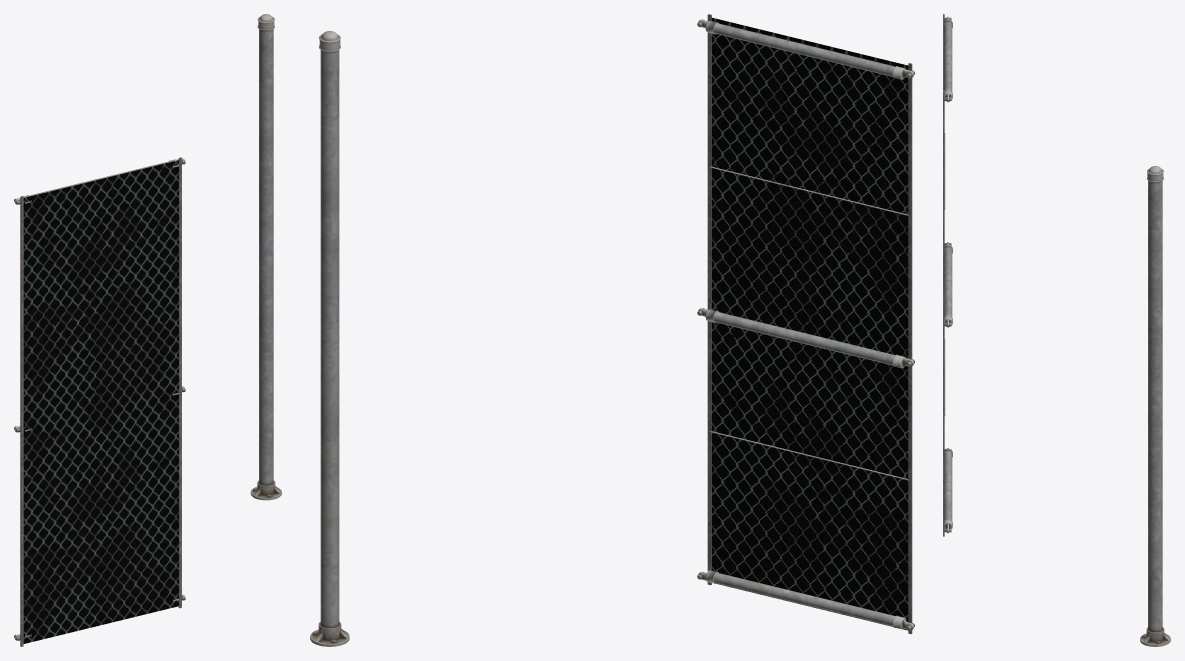
File: modular_chainlink_fence.glb
3 renders of one model, left to right at view 1: azimuth 30°, elevation 25°; view 2: azimuth 150°, elevation 25°; view 3: azimuth 270°, elevation 25°, orthographic. The views are drawn at different scales.
Visible parts, largest first — view 1: modular_chainlink_fence, modular_chainlink_fence_post; view 2: modular_chainlink_fence, modular_chainlink_fence_post; view 3: modular_chainlink_fence_post, modular_chainlink_fence.
Boxes of the visible parts, x1=… form: modular_chainlink_fence: x1=14, y1=157, x2=185, y2=646; modular_chainlink_fence_post: x1=250, y1=14, x2=281, y2=500; modular_chainlink_fence: x1=697, y1=14, x2=914, y2=634; modular_chainlink_fence_post: x1=310, y1=31, x2=349, y2=646; modular_chainlink_fence_post: x1=1140, y1=166, x2=1170, y2=646; modular_chainlink_fence: x1=943, y1=14, x2=952, y2=536.
Size of the model in its own units: 2.04 by 2.52 by 1.1.
Materials: 2 (2 with a texture image).
